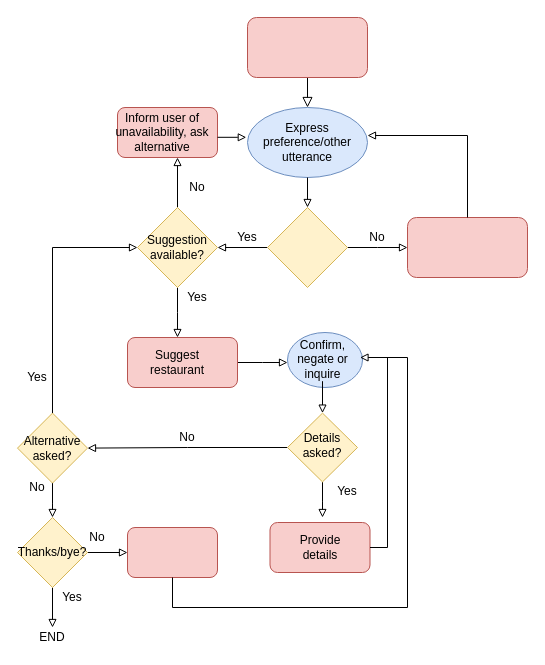
The diagram is 545 pixels wide and 665 high, and some of its shapes have lost their labels. Here are the shapes that lost their labels. From the top down, the box of each, then its label:
(246, 16, 368, 78): Welcome user and ask for preferences
(266, 206, 348, 288): All preferences known?
(406, 216, 528, 278): Ask for missing preferences
(126, 526, 218, 578): Ask for clarification
